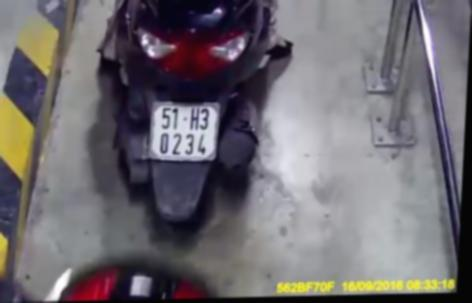License_Plate: (146, 97, 226, 168)
